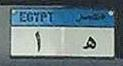1: (34, 31, 43, 52)
haa: (83, 37, 98, 49)
